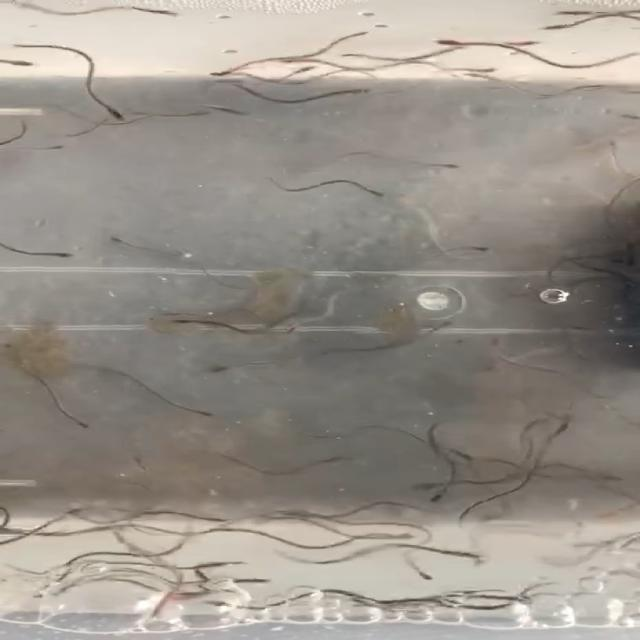active_glass_eel: (97, 230, 154, 254), (539, 408, 577, 434), (144, 599, 189, 620), (362, 187, 399, 210), (164, 310, 201, 332), (52, 245, 84, 268), (541, 22, 576, 43), (464, 238, 497, 260), (443, 158, 481, 176), (419, 488, 453, 508), (218, 559, 260, 575), (463, 544, 487, 570), (450, 442, 478, 464), (400, 571, 443, 585), (60, 501, 97, 517), (195, 407, 225, 426), (591, 135, 624, 152), (45, 140, 77, 157), (388, 528, 418, 546), (4, 58, 40, 73), (314, 452, 362, 463), (155, 8, 188, 24), (207, 64, 234, 82), (341, 84, 378, 97), (93, 108, 130, 121), (412, 475, 440, 492), (428, 319, 466, 331), (242, 576, 279, 588), (132, 462, 169, 474), (554, 8, 592, 19), (595, 469, 618, 486), (489, 335, 510, 353), (439, 36, 465, 50), (66, 418, 96, 430), (191, 106, 214, 120), (212, 513, 236, 526), (293, 65, 320, 76), (273, 508, 298, 519)
